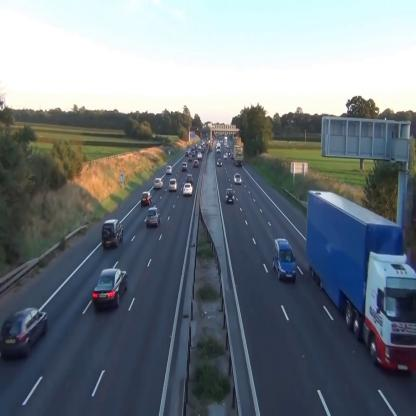car: (1, 308, 48, 360), (92, 269, 128, 311), (273, 238, 297, 283), (102, 220, 124, 249), (147, 208, 161, 226), (140, 191, 152, 206), (226, 188, 235, 203), (169, 178, 178, 192), (183, 182, 192, 196), (154, 178, 163, 190), (234, 173, 242, 185), (166, 165, 172, 174), (182, 161, 187, 171), (187, 175, 193, 183), (217, 158, 222, 167), (193, 160, 199, 167), (197, 152, 202, 159), (188, 154, 192, 161), (224, 152, 228, 159)
lorry: (308, 186, 416, 380), (234, 145, 243, 166)
